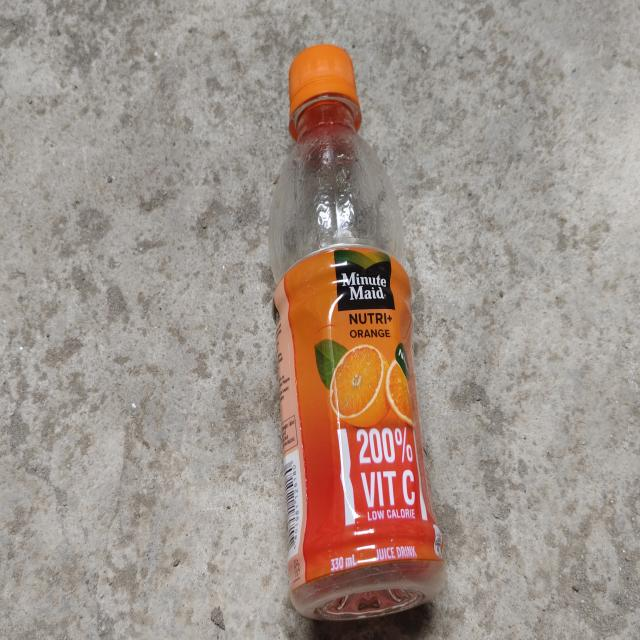Bottle: (269, 44, 445, 620)
